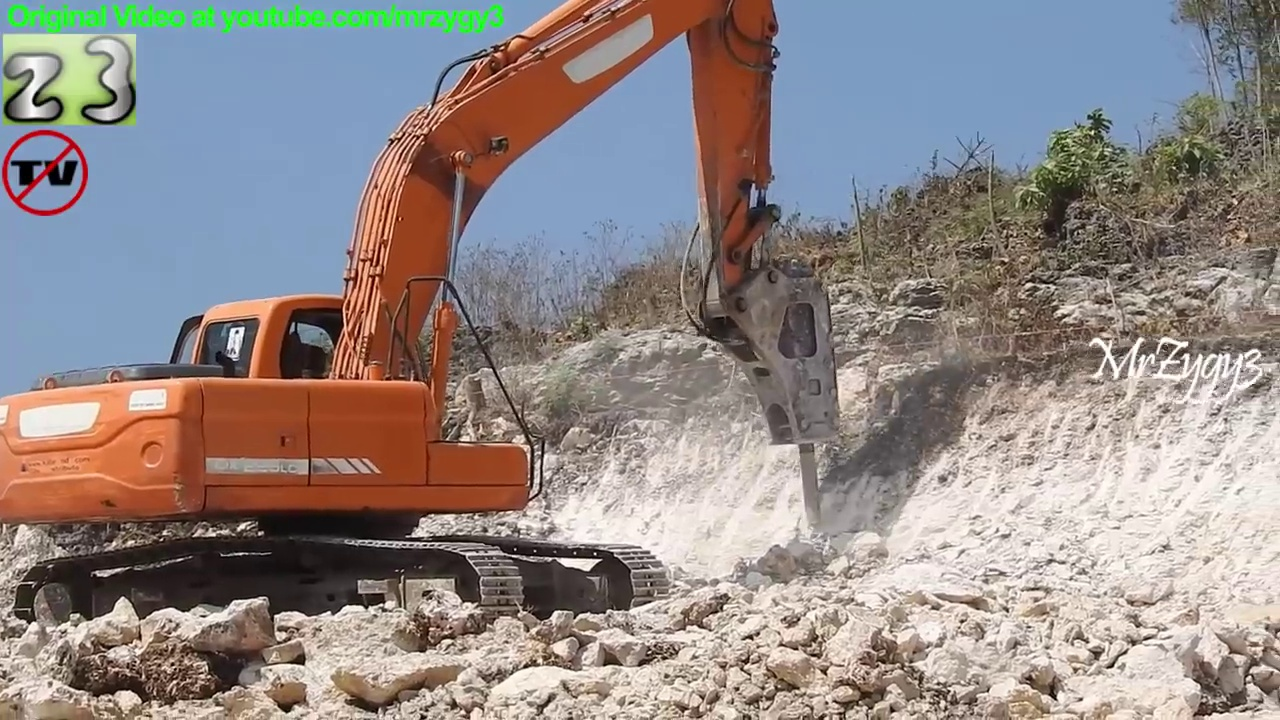excavator: (1, 1, 853, 657)
